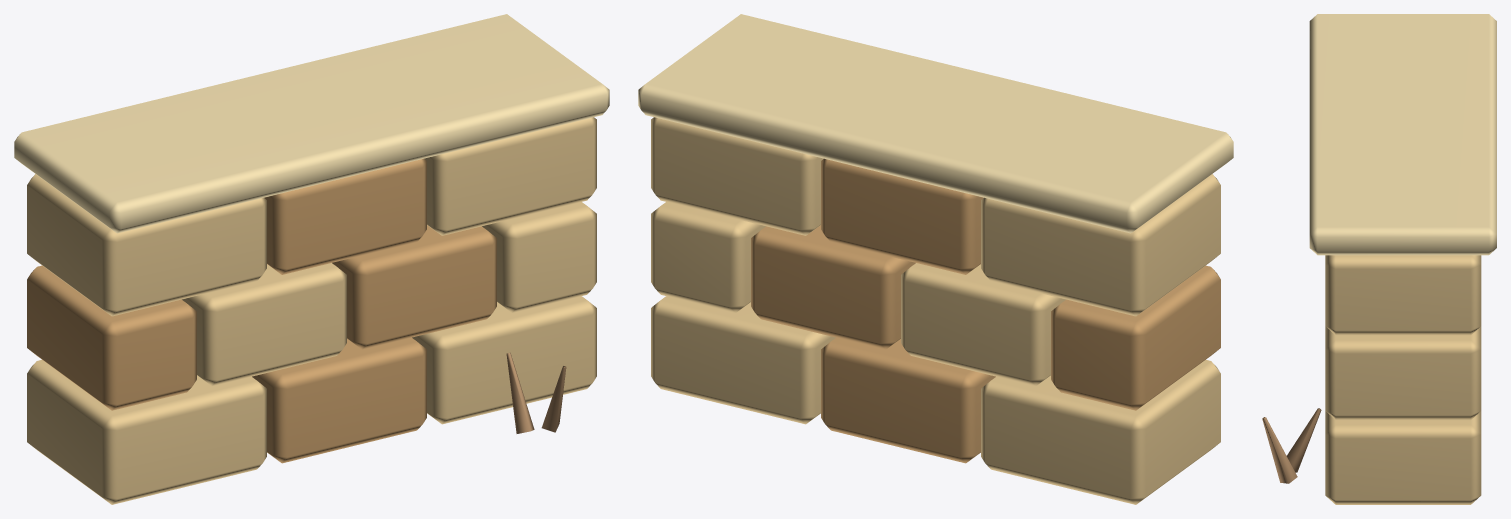
The model's file is overlook_wall.glb.
3 views of the same model, side by side, from view 1: azimuth 30°, elevation 25°; view 2: azimuth 150°, elevation 25°; view 3: azimuth 270°, elevation 25° (orthographic). The views are drawn at different scales.
Visible parts, largest first — view 1: Wall; view 2: Wall; view 3: Wall.
Boxes of the visible parts, x1,y1,x2,y2 form: Wall: (14, 14, 609, 504); Wall: (638, 14, 1233, 504); Wall: (1262, 14, 1496, 504).
Size of the model in its own units: 1 by 0.6076 by 0.4516.
